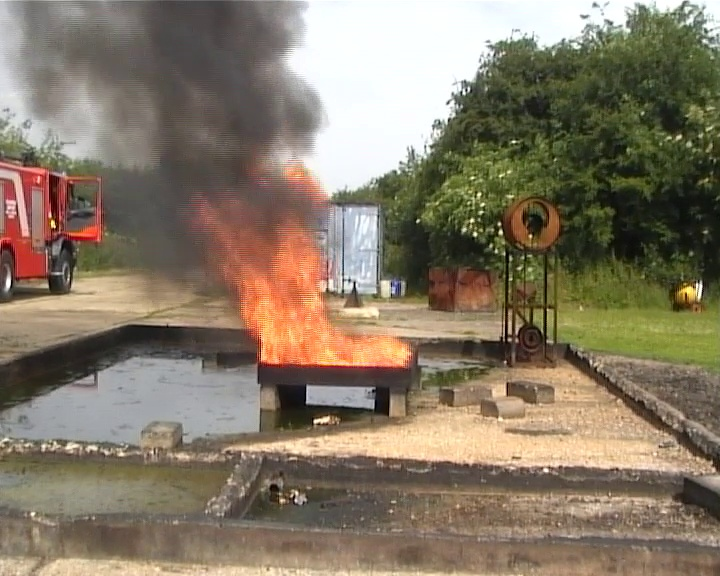fire: (242, 234, 411, 366)
